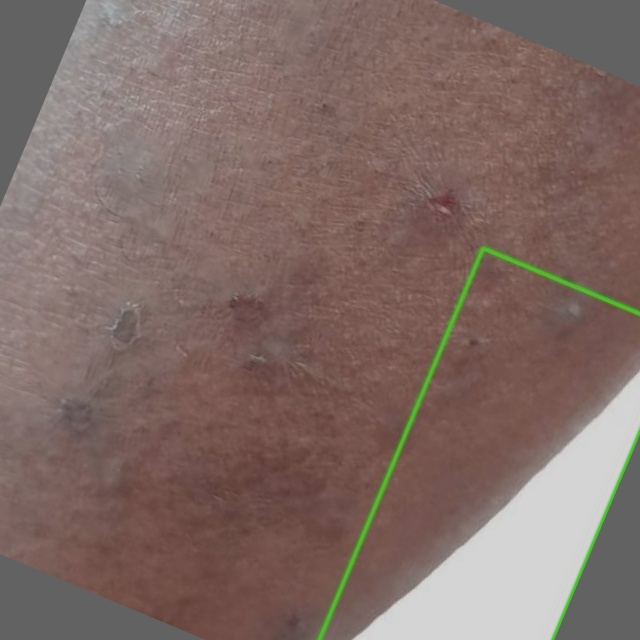Atopic Dermatitis: (319, 248, 639, 639)
